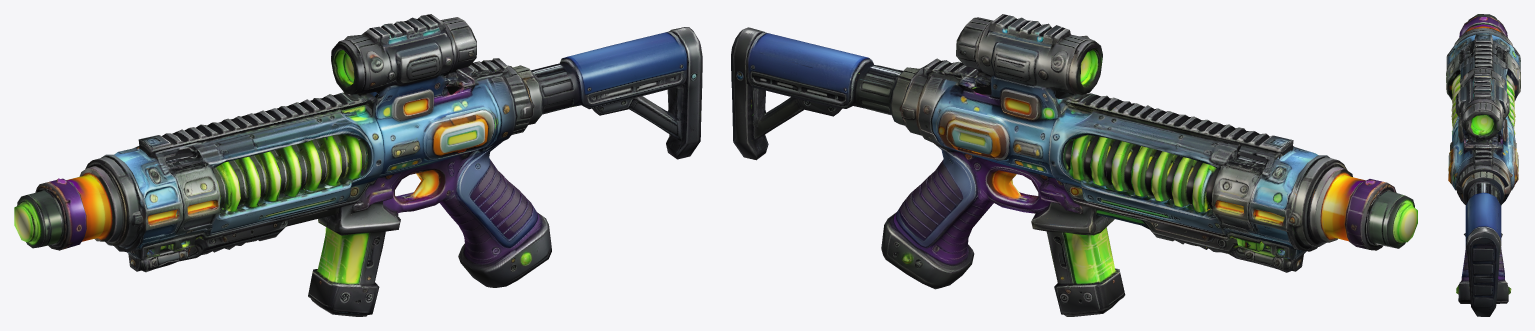
File: 2_Meshy_AI_Neon_Coil_Plasma_Rifl_0416160536_texture.glb
The picture shows the model from 3 angles, left to right: view 1: azimuth 30°, elevation 25°; view 2: azimuth 150°, elevation 25°; view 3: azimuth 270°, elevation 25°; orthographic projection. The views are drawn at different scales.
Visible parts, largest first — view 1: Mesh1.0; view 2: Mesh1.0; view 3: Mesh1.0.
Boxes of the visible parts, left/top/right/bottom form: Mesh1.0: left=14, top=14, right=702, bottom=316; Mesh1.0: left=731, top=14, right=1417, bottom=316; Mesh1.0: left=1446, top=14, right=1520, bottom=316.
Size of the model in its own units: 1.91 by 0.7537 by 0.2655.
Materials: 1 (1 with a texture image).
